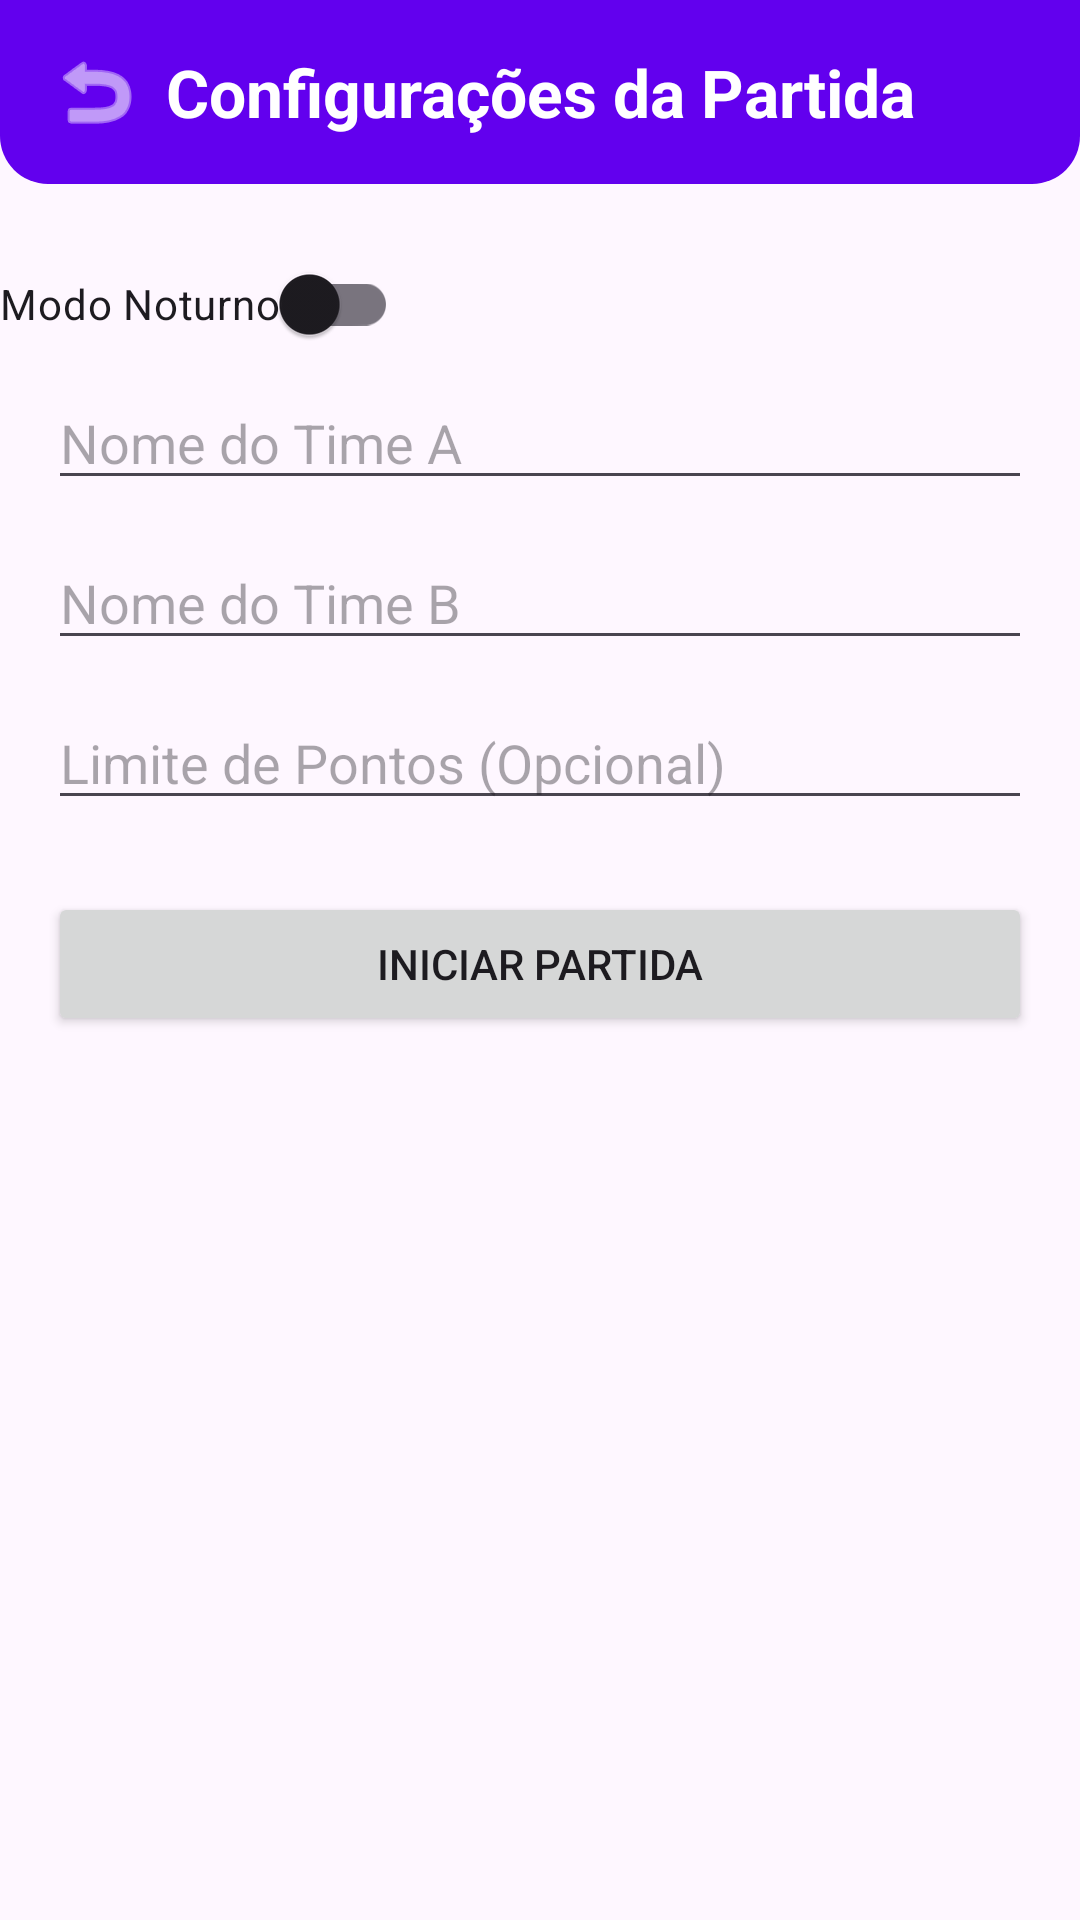

Icons on this 1080 x 1920 Android screen, each with the point to tap as (x=x, y=y):
Voltar: (x=97, y=92)
